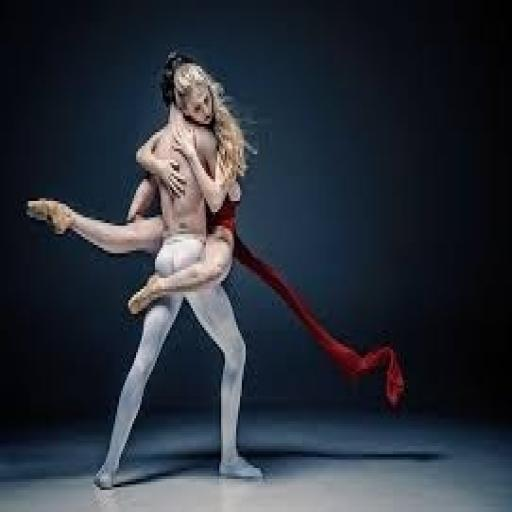dancing: (59, 68, 333, 430)
